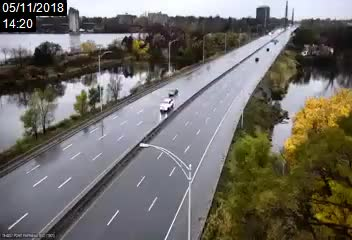personal_car: (159, 96, 176, 113), (167, 87, 179, 97), (253, 56, 260, 62)
